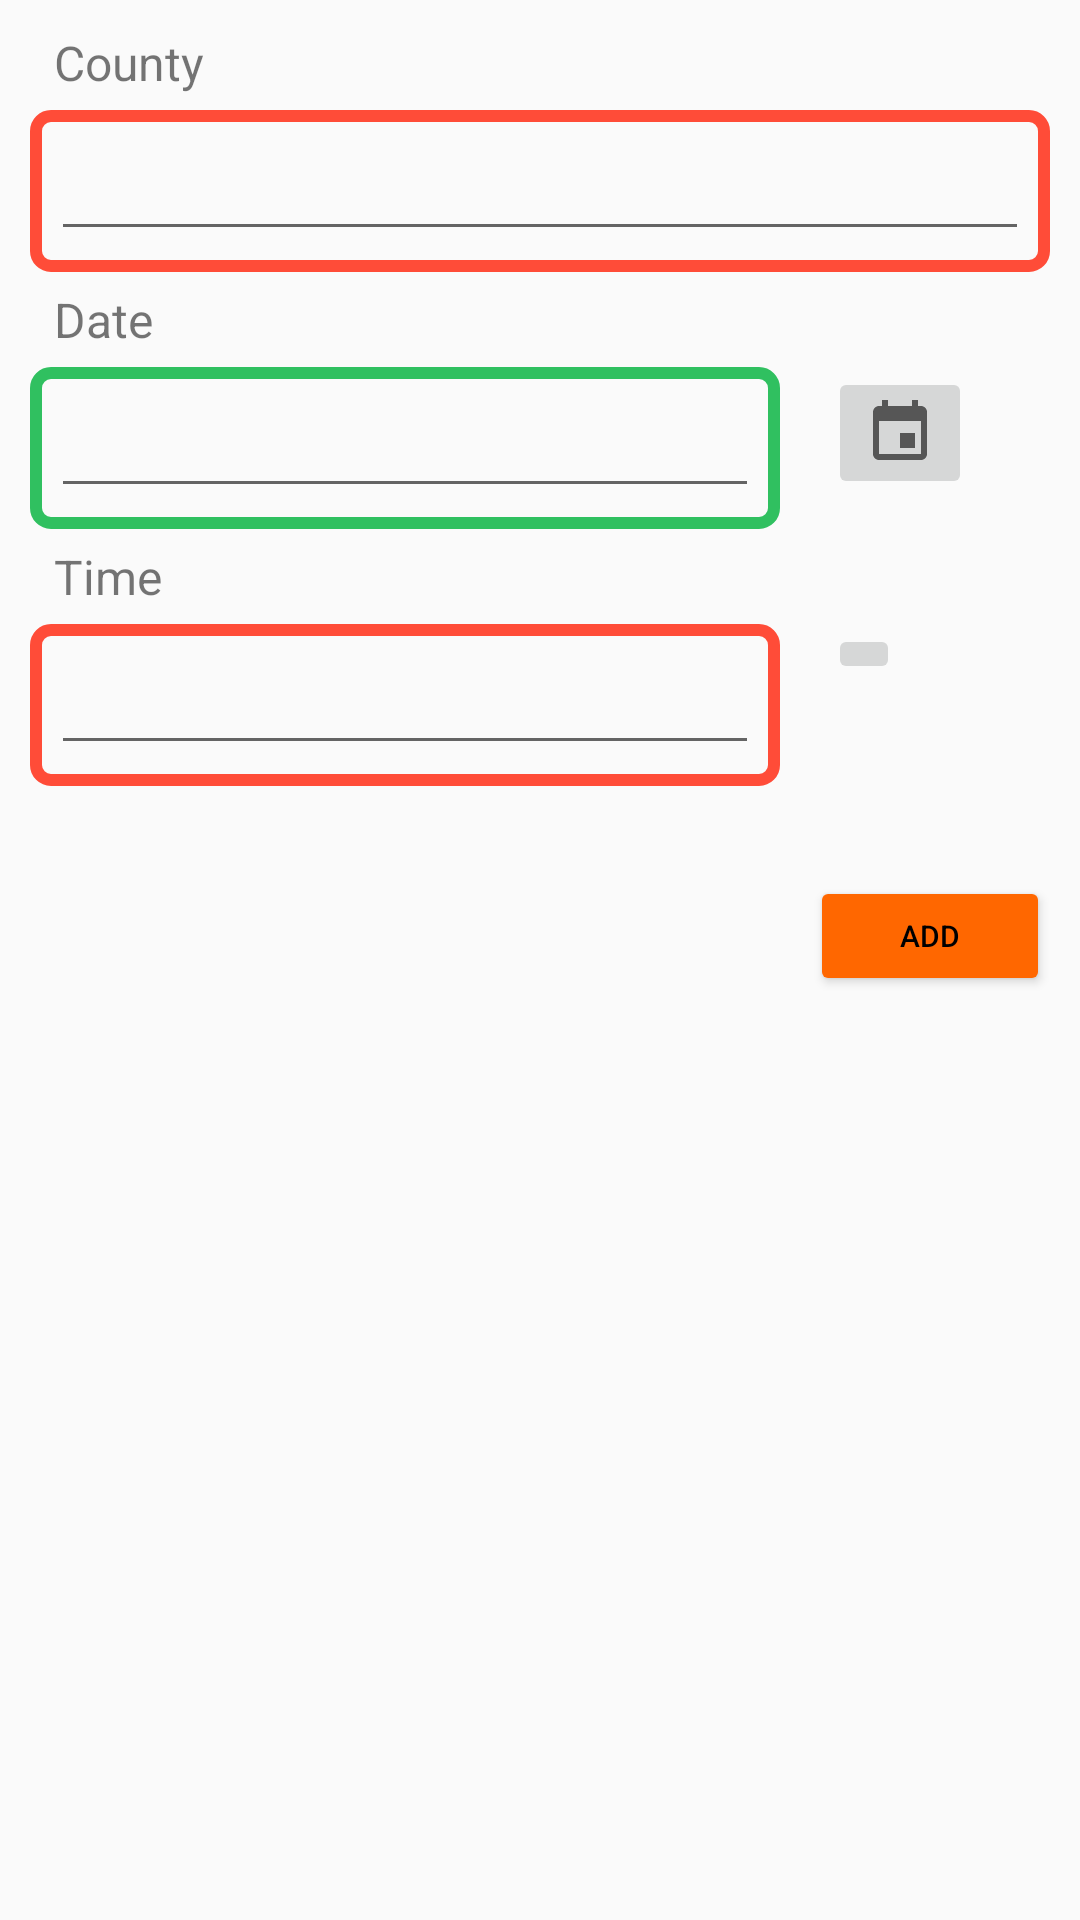

Screen size 1080*1920. Icon name, then its center in pixels as [x,y]:
android calendar: [900,433]
